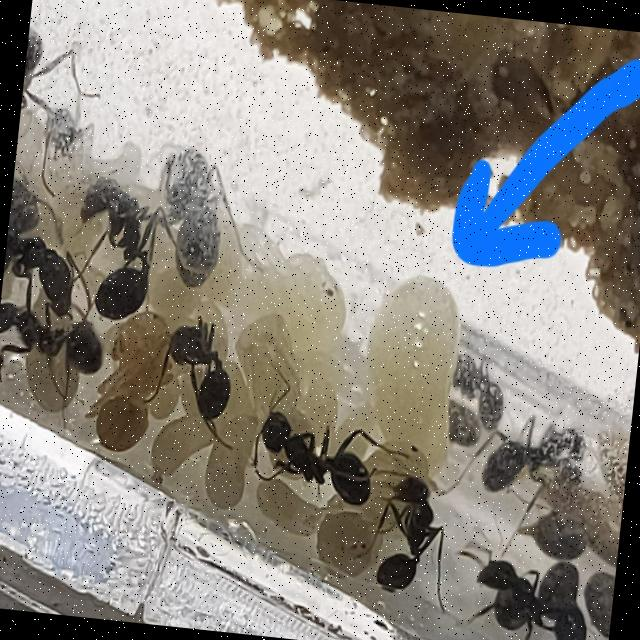Egg: (196, 220, 357, 359), (356, 270, 466, 470), (203, 411, 262, 512), (254, 476, 332, 536), (150, 408, 216, 478)
Minor: (242, 360, 416, 516), (66, 170, 180, 324), (0, 278, 110, 431), (448, 539, 593, 640), (152, 312, 253, 454), (365, 470, 458, 613)
